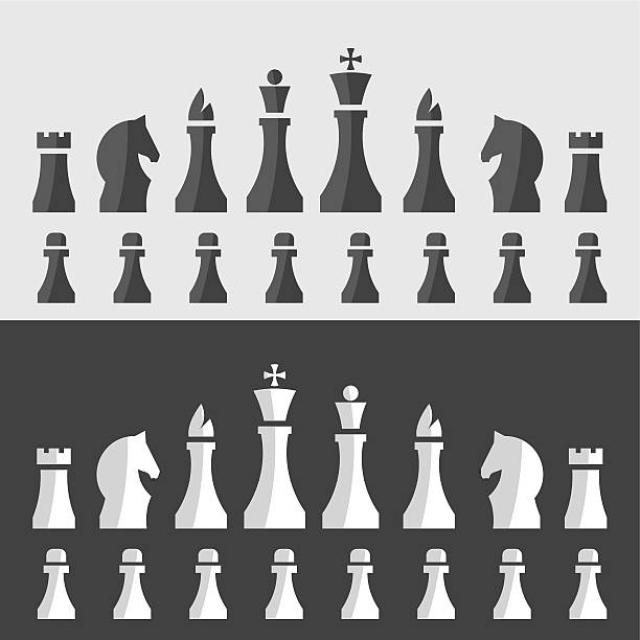black-bishop: (175, 86, 227, 212), (403, 88, 455, 212)
black-king: (320, 48, 382, 212)
black-knight: (96, 114, 160, 212), (480, 114, 544, 212)
black-pawn: (112, 232, 152, 303), (341, 232, 380, 303), (568, 232, 606, 303), (417, 232, 455, 303), (266, 232, 304, 303), (189, 232, 227, 303), (38, 232, 76, 303), (494, 232, 531, 304)
black-queen: (246, 69, 303, 212)
black-rook: (32, 131, 75, 213), (564, 132, 608, 212)
white-bishop: (173, 401, 228, 531), (401, 402, 456, 531)
white-king: (242, 362, 307, 530)
white-knight: (95, 429, 161, 531), (479, 428, 544, 530)
white-pawn: (112, 545, 154, 620), (264, 546, 305, 620), (340, 547, 381, 621), (568, 546, 609, 620), (36, 547, 77, 620), (188, 546, 228, 620), (416, 546, 456, 620), (492, 546, 532, 620)
white-queen: (321, 384, 381, 530)
white-rook: (563, 446, 609, 531), (31, 446, 77, 530)
